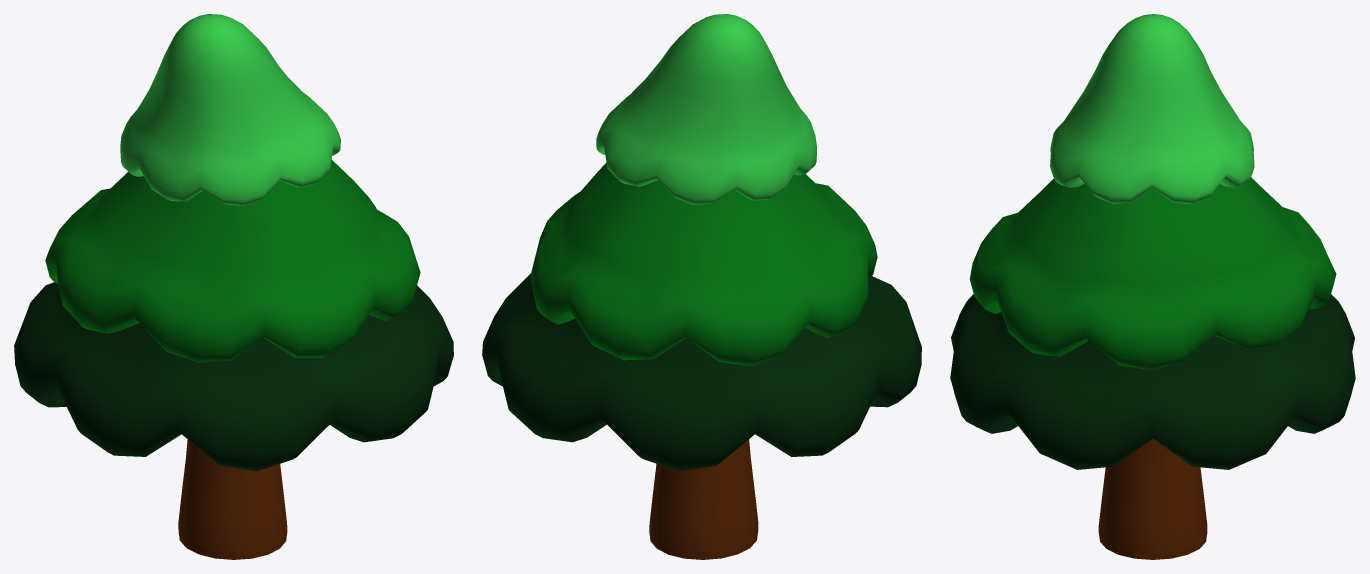
Rendered from Sapin_04_new.fbx.
3 renders of one model, left to right at view 1: azimuth 30°, elevation 25°; view 2: azimuth 150°, elevation 25°; view 3: azimuth 270°, elevation 25°, orthographic. The views are drawn at different scales.
Visible parts, largest first — view 1: Feuilles_Milieu_low001, Feuilles_Bas_low001, Feuilles_Haut_low001, Tronc_low006; view 2: Feuilles_Milieu_low001, Feuilles_Bas_low001, Feuilles_Haut_low001, Tronc_low006; view 3: Feuilles_Milieu_low001, Feuilles_Bas_low001, Feuilles_Haut_low001, Tronc_low006.
Boxes of the visible parts, box(x1,y1,x2,y2) form: Feuilles_Milieu_low001: box(45, 160, 420, 362); Feuilles_Bas_low001: box(14, 282, 453, 471); Feuilles_Haut_low001: box(120, 14, 340, 205); Tronc_low006: box(178, 439, 287, 559); Feuilles_Milieu_low001: box(530, 162, 877, 365); Feuilles_Bas_low001: box(482, 273, 921, 471); Feuilles_Haut_low001: box(596, 14, 816, 204); Tronc_low006: box(649, 439, 758, 559); Feuilles_Milieu_low001: box(969, 177, 1336, 370); Feuilles_Bas_low001: box(950, 294, 1355, 469); Feuilles_Haut_low001: box(1050, 14, 1254, 204); Tronc_low006: box(1098, 439, 1207, 559).
Bounding box in the file's own units: 90.29 × 124 × 89.18.
